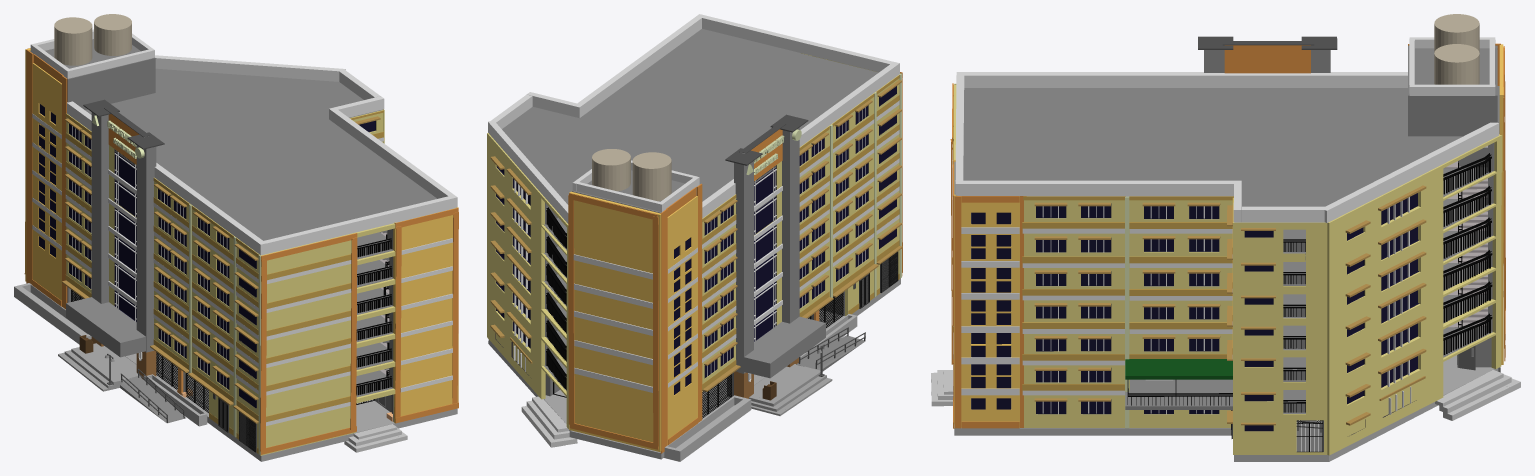
Rendered from cAcademic.glb.
The picture shows the model from 3 angles, left to right: view 1: azimuth 30°, elevation 25°; view 2: azimuth 150°, elevation 25°; view 3: azimuth 270°, elevation 25°; orthographic projection. The views are drawn at different scales.
Parts seen in each view (by area): view 1: Stairs.024; view 2: Stairs.024; view 3: Stairs.024.
Part boxes in pixels (bbox=[...]): Stairs.024: bbox=[14, 14, 458, 461]; Stairs.024: bbox=[487, 14, 902, 461]; Stairs.024: bbox=[931, 14, 1520, 461].
Size of the model in its own units: 4.56 by 4.17 by 6.87.
